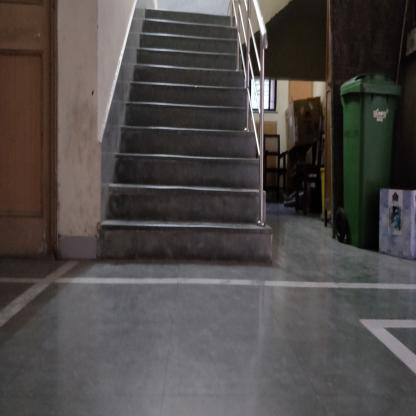stairs: (131, 88, 243, 270)
